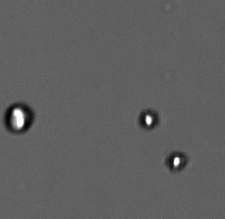Living Cell: (3, 101, 36, 135), (136, 108, 161, 130), (165, 150, 188, 173)
